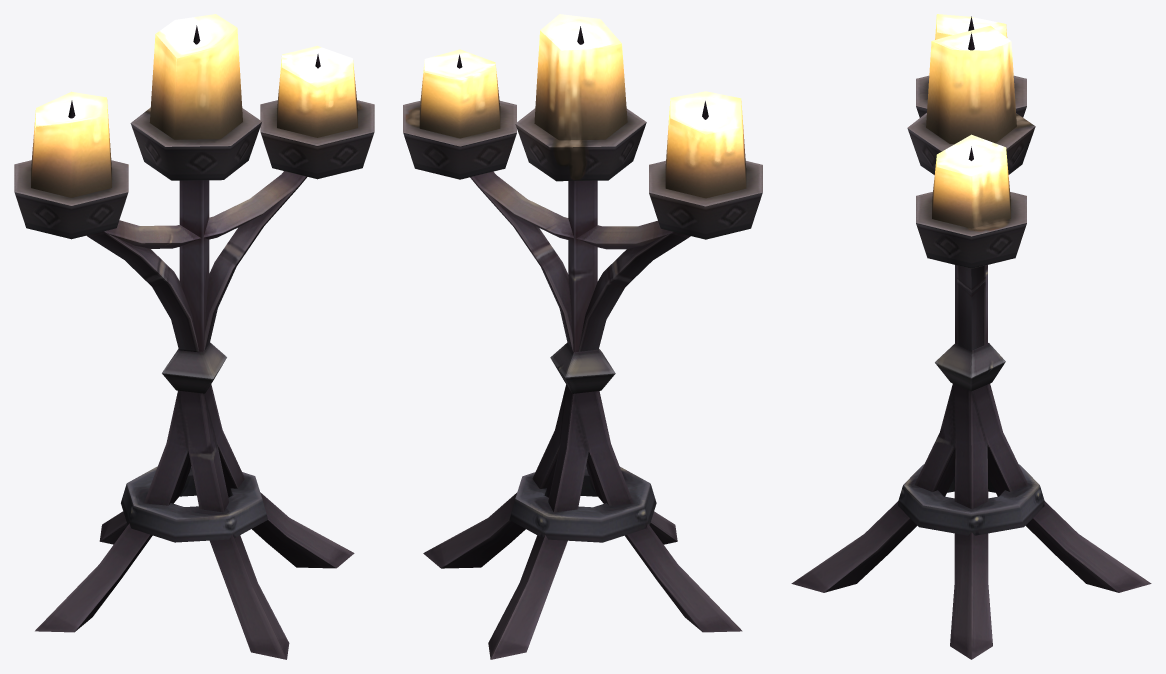
The model's file is candelabra.glb.
The picture shows the model from 3 angles, left to right: view 1: azimuth 30°, elevation 25°; view 2: azimuth 150°, elevation 25°; view 3: azimuth 270°, elevation 25°; orthographic projection. The views are drawn at different scales.
Visible parts, largest first — view 1: candelabra_02; view 2: candelabra_02; view 3: candelabra_02.
Part boxes in pixels (left/top/right/bottom): candelabra_02: left=14, top=14, right=374, bottom=659; candelabra_02: left=403, top=14, right=762, bottom=659; candelabra_02: left=791, top=14, right=1151, bottom=659.
Bounding box in the file's own units: 0.6737 × 1.01 × 0.5994.
Materials: 1 (1 with a texture image).
